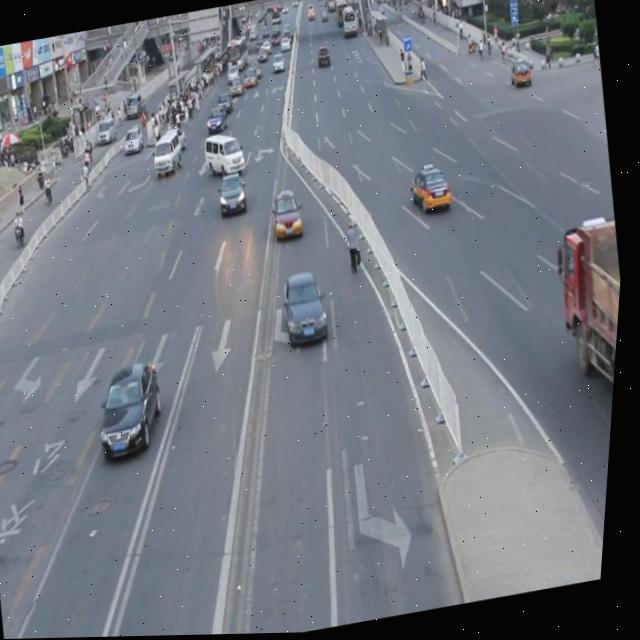bus: (546, 216, 628, 454)
car: (93, 358, 178, 463), (281, 268, 338, 350), (409, 164, 455, 218), (272, 189, 309, 243), (216, 170, 252, 219)
